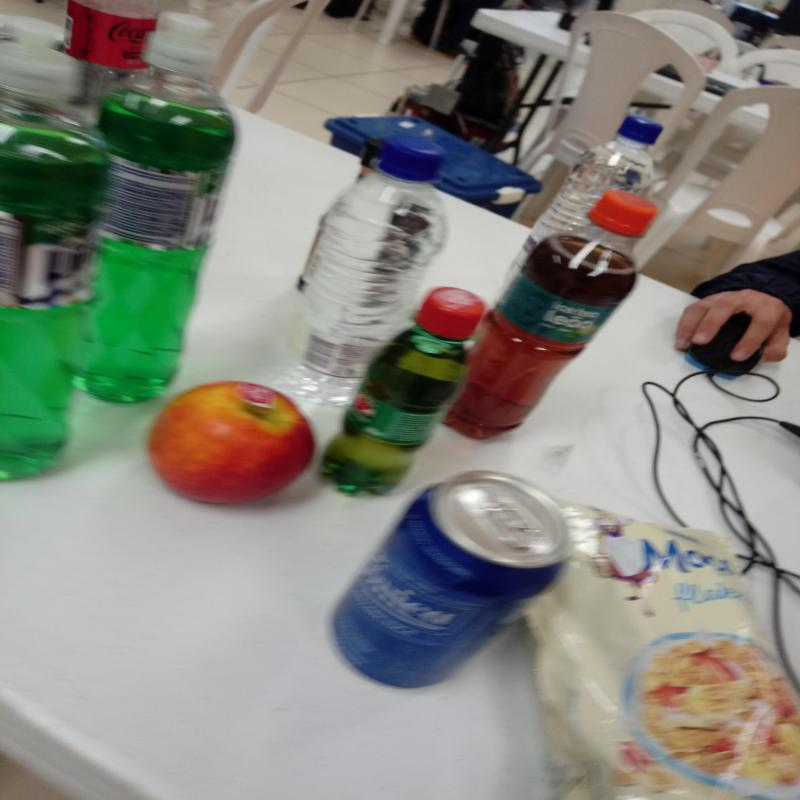Apple: (145, 382, 316, 510)
Cleaner: (70, 13, 234, 406), (0, 38, 103, 474)
CornFlakes: (526, 501, 799, 800)
Guarana: (320, 285, 488, 500)
IceTea: (444, 191, 658, 441)
Tonic: (334, 470, 569, 698)
Water: (292, 137, 447, 399), (502, 116, 664, 286)
